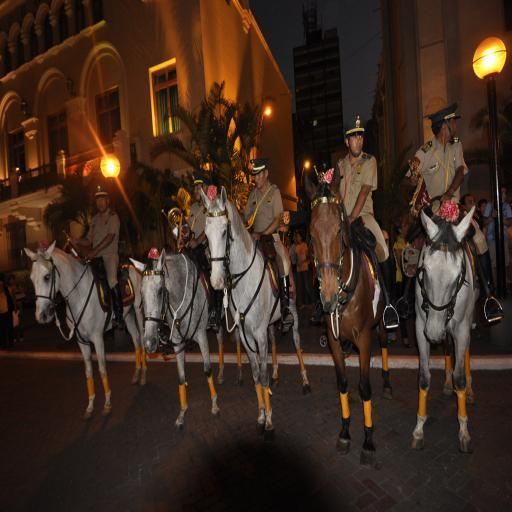horse: (199, 188, 312, 438), (308, 169, 396, 474), (23, 246, 149, 418), (127, 248, 243, 430), (410, 204, 478, 456)
